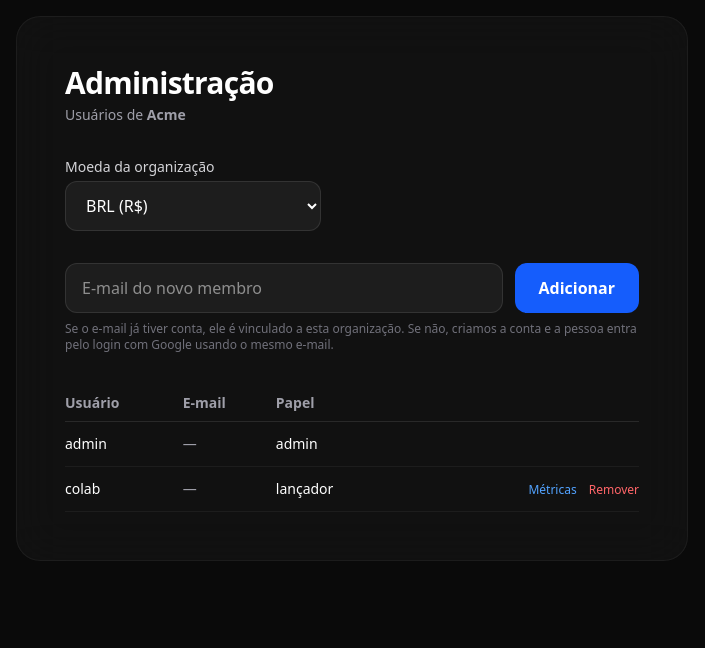
Test: AdminUsers — idioma (#296) › renderiza em pt-BR e interpola o nome do usuário na dica de atribuição
The width and height of the screenshot is (705, 648).
Expected: the field with placeholder "E-mail do novo membro" is shown, [65,263,502,313]
Expected: the heading "Administração" is shown, [65,62,274,103]
Click the button "Métricas".
click(553, 490)  # box [528,482,577,498]
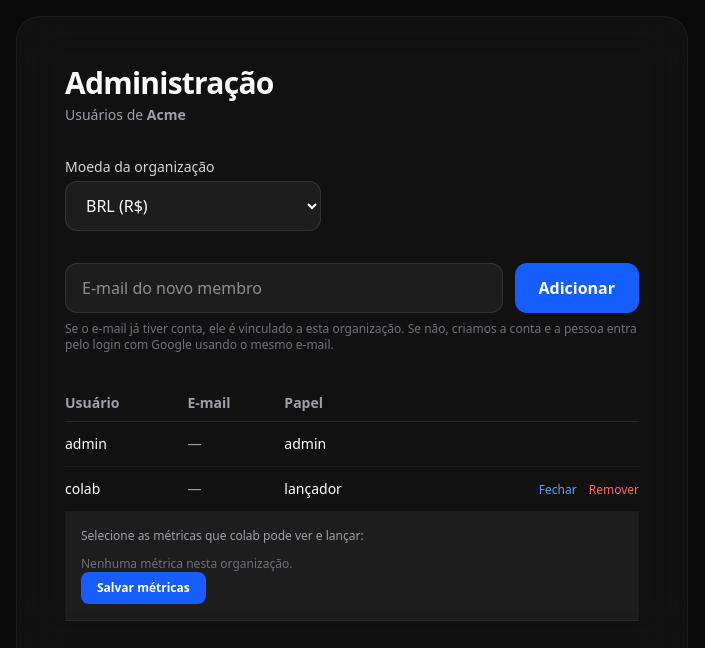
Expected: the text "Selecione as métricas que colab pode ver e lançar:" is shown, [81,527,364,544]
